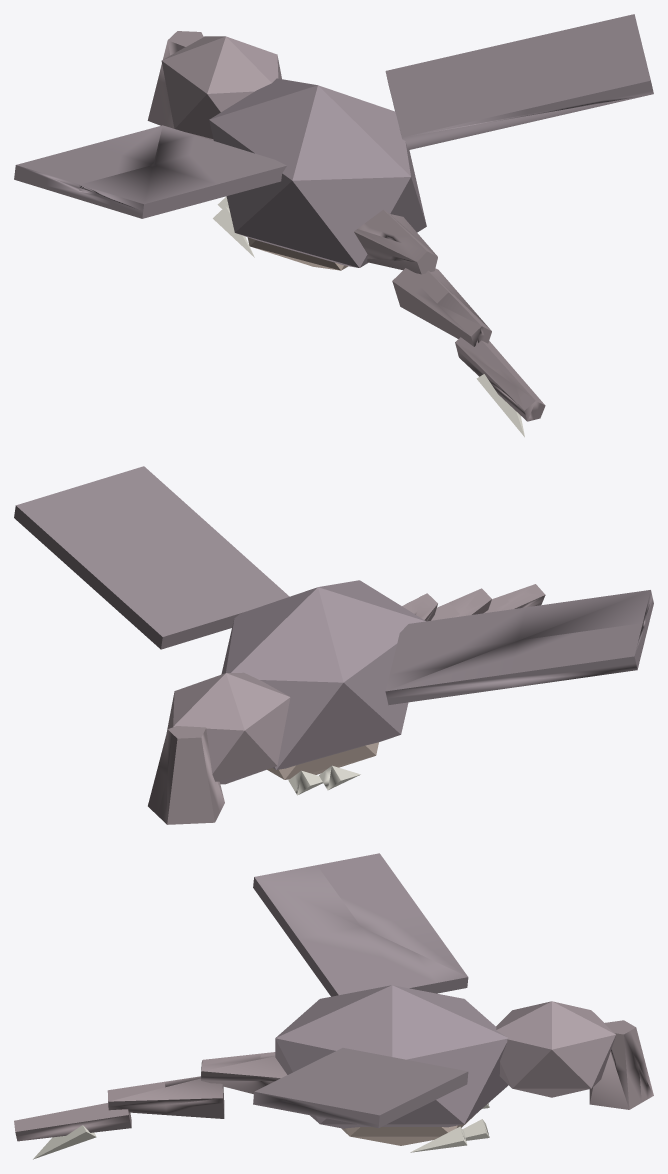
File: wyvern.glb
3 views of the same model, one above another, from view 1: azimuth 30°, elevation 25°; view 2: azimuth 150°, elevation 25°; view 3: azimuth 270°, elevation 25° (orthographic). The views are drawn at different scales.
Visible parts, largest first — view 1: WyvernBody; view 2: WyvernBody; view 3: WyvernBody.
Part boxes in pixels (x1=…): WyvernBody: x1=14, y1=14, x2=653, y2=437; WyvernBody: x1=14, y1=466, x2=653, y2=824; WyvernBody: x1=14, y1=853, x2=653, y2=1159.
Size of the model in its own units: 2.82 by 0.8724 by 2.88.
